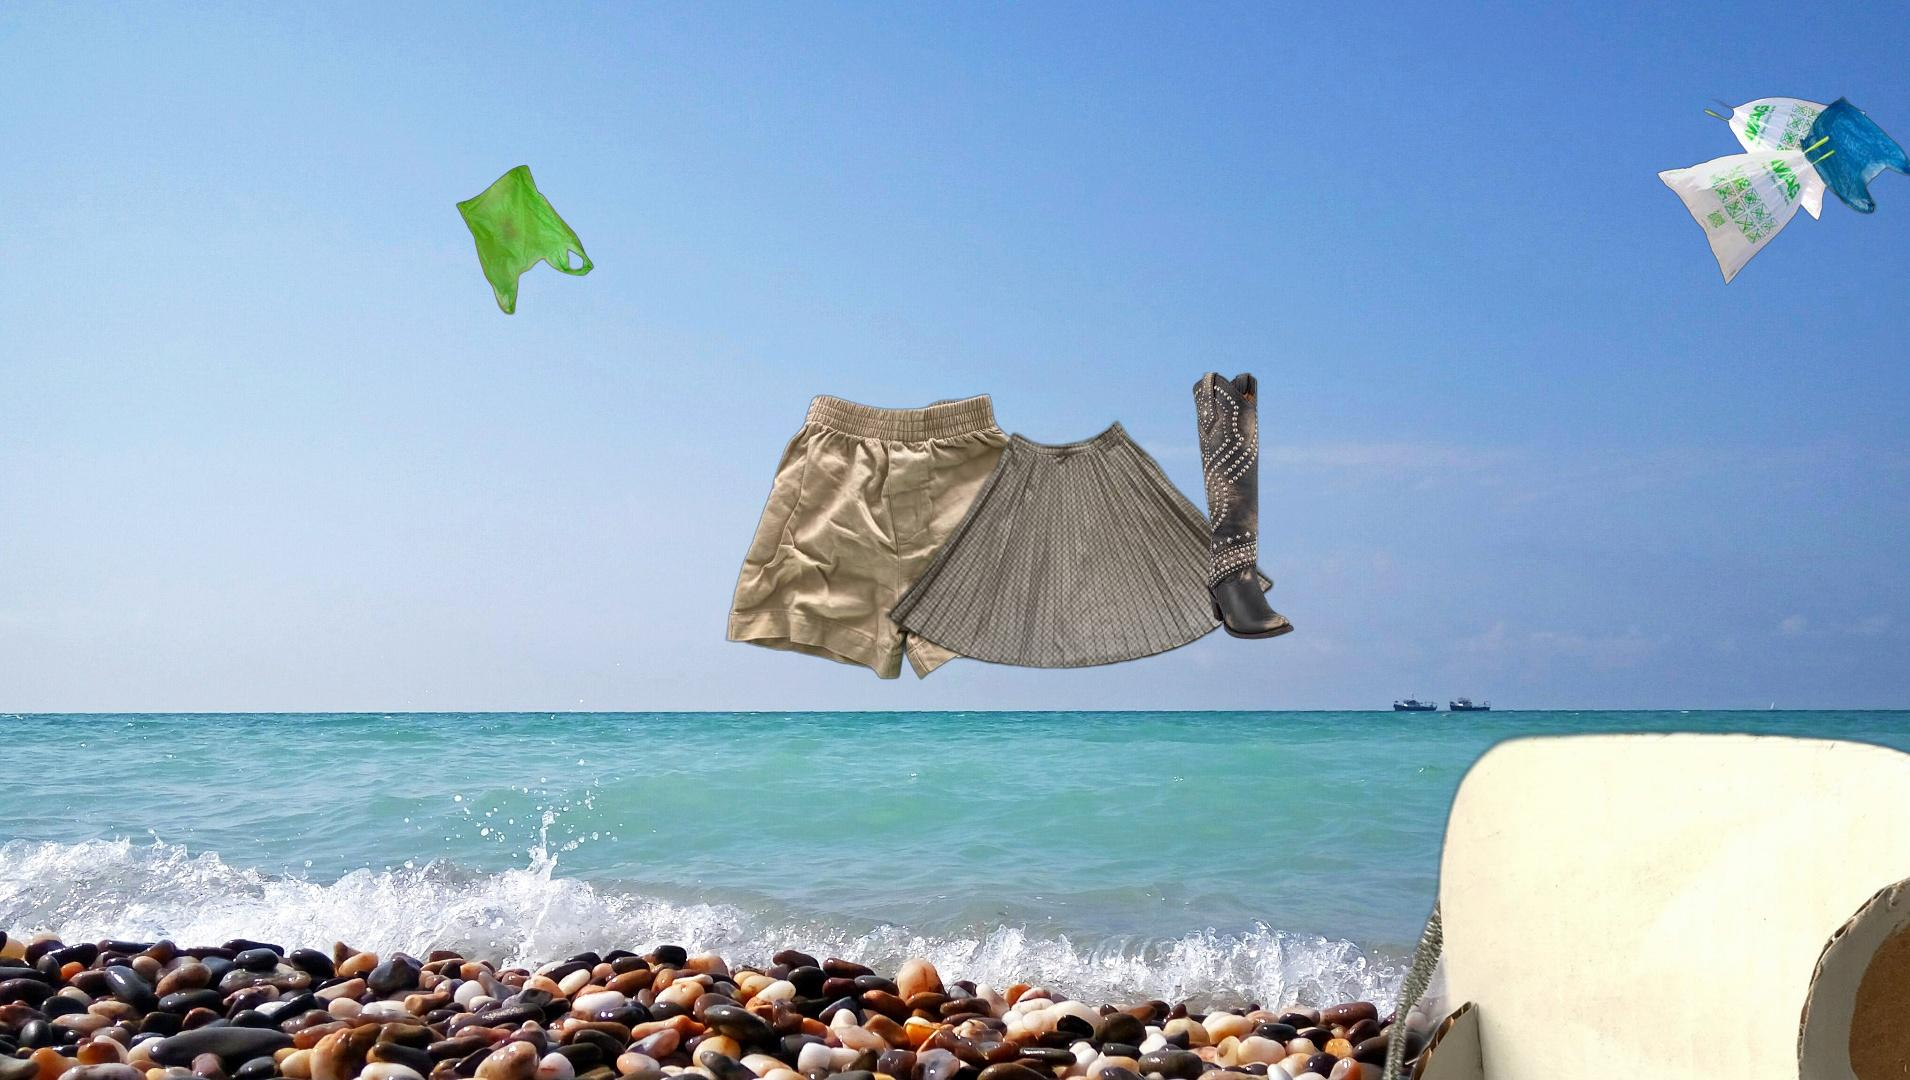clothes: (723, 390, 1094, 684), (885, 416, 1276, 673)
plastic-bag: (1656, 94, 1910, 287), (453, 161, 596, 316)
shoes: (1190, 371, 1297, 642)
trashbox-cardboard: (1367, 719, 1910, 1080)
